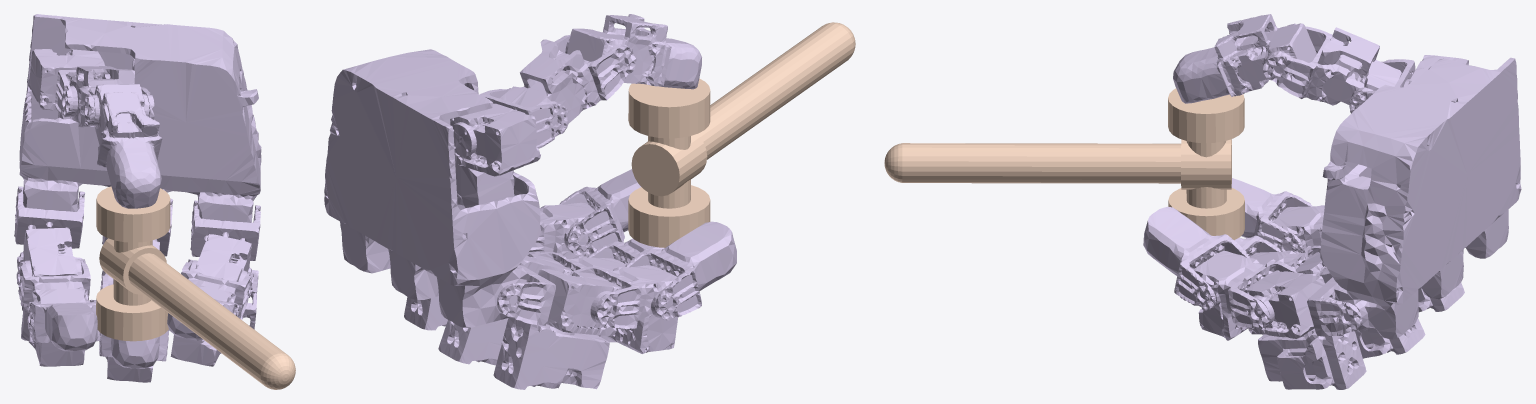
3 views of the same model, side by side, from view 1: azimuth 30°, elevation 25°; view 2: azimuth 150°, elevation 25°; view 3: azimuth 270°, elevation 25° (orthographic). The views are drawn at different scales.
Visible parts, largest first — view 1: LEAP_hand, world; view 2: LEAP_hand, world; view 3: LEAP_hand, world.
Part boxes in pixels (left/top/right/bottom): LEAP_hand: left=14, top=14, right=261, bottom=382; world: left=96, top=186, right=295, bottom=389; LEAP_hand: left=324, top=14, right=736, bottom=389; world: left=628, top=22, right=855, bottom=247; LEAP_hand: left=1143, top=14, right=1521, bottom=389; world: left=884, top=88, right=1244, bottom=240.
Bounding box in the file's own units: 0.1715 × 0.1689 × 0.3165.
